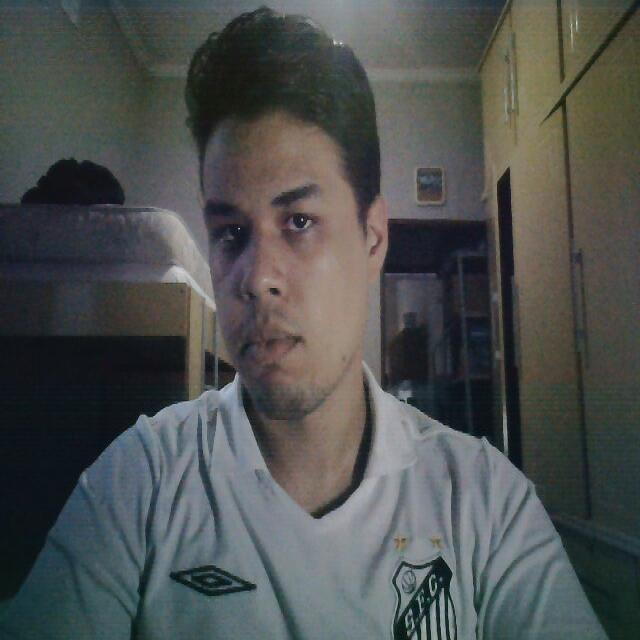acordado: (203, 144, 375, 434)
